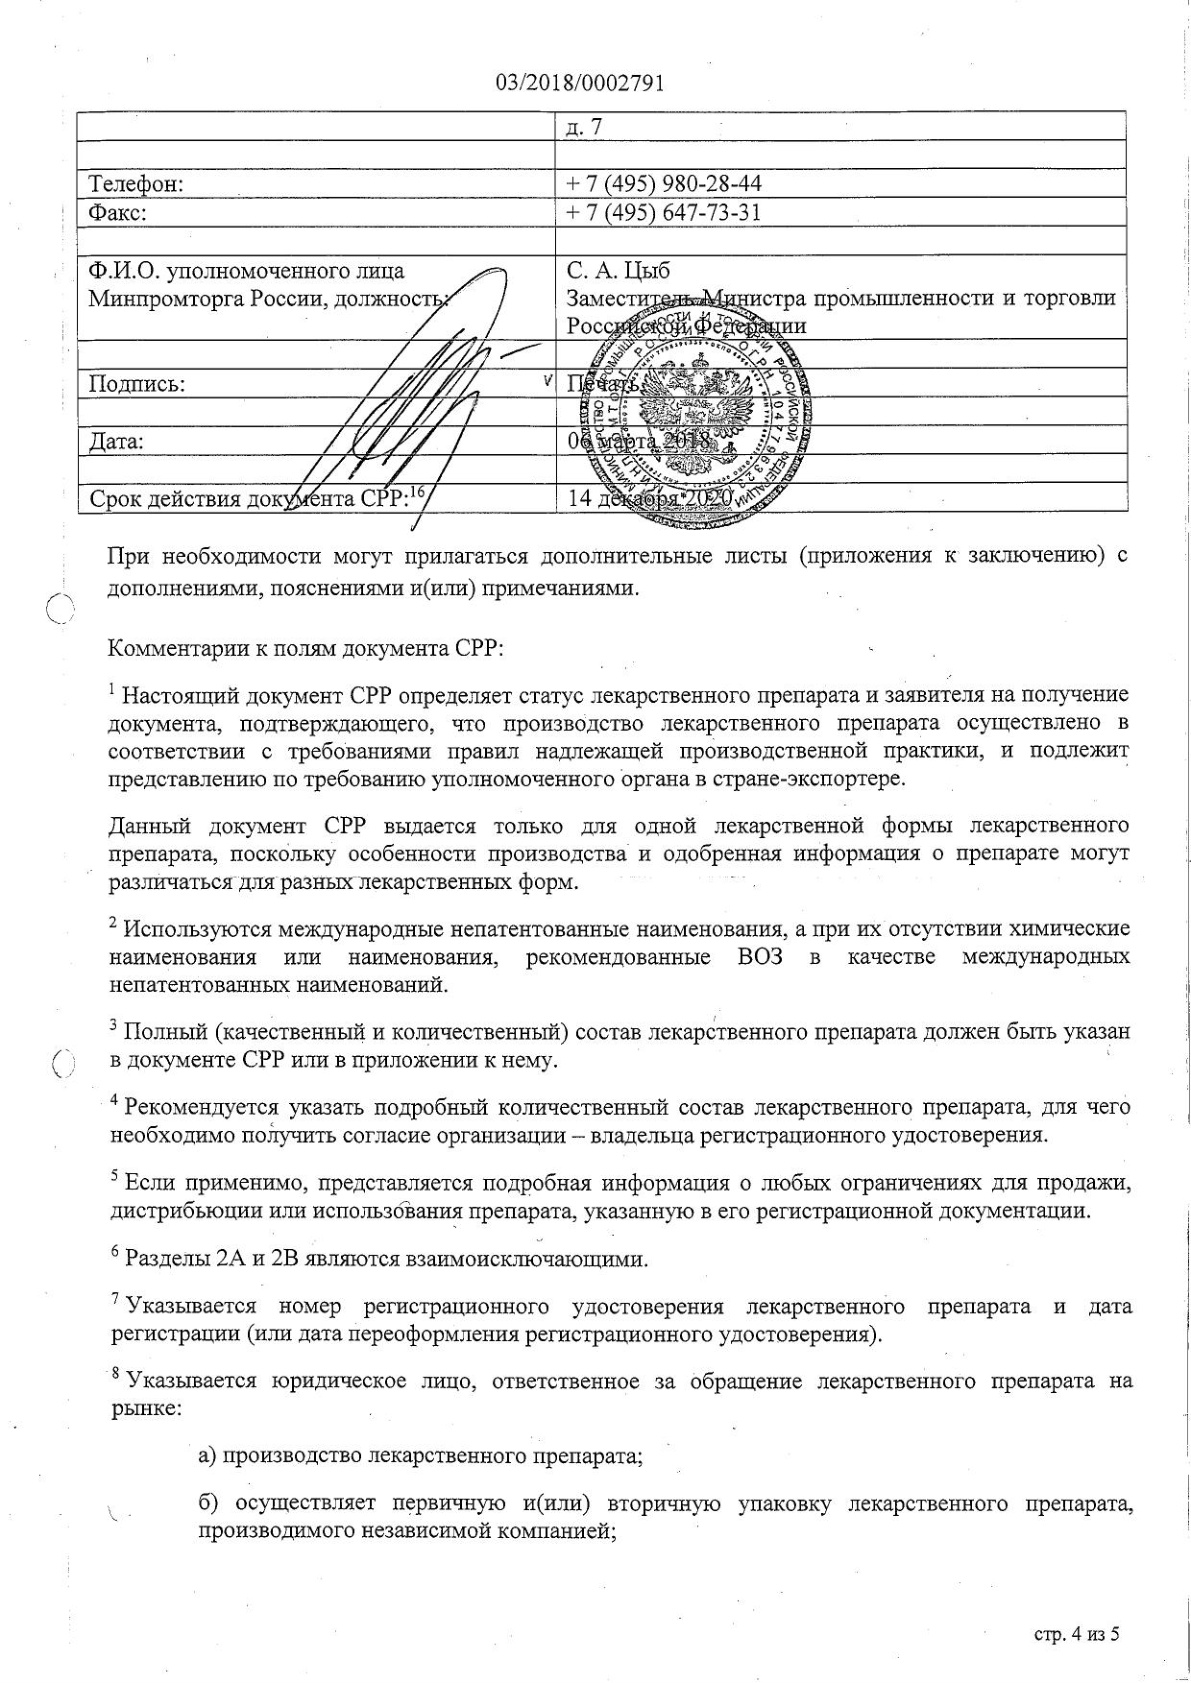full_lined: (73, 108, 1130, 515)
